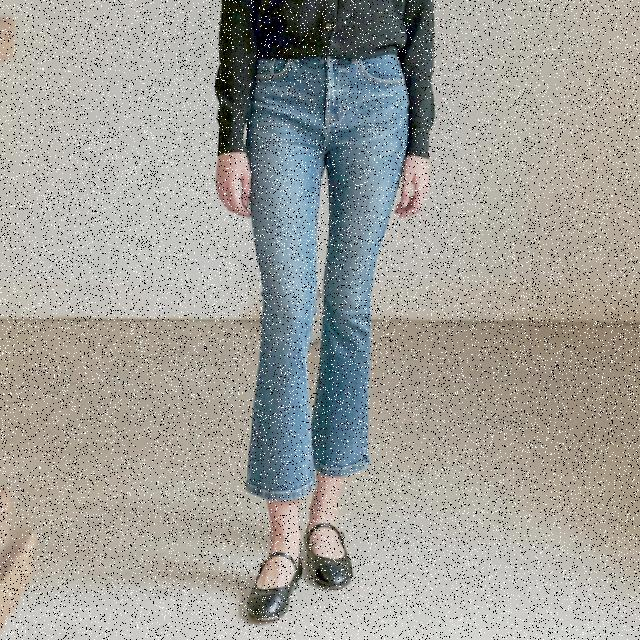dress: (241, 45, 401, 499)
